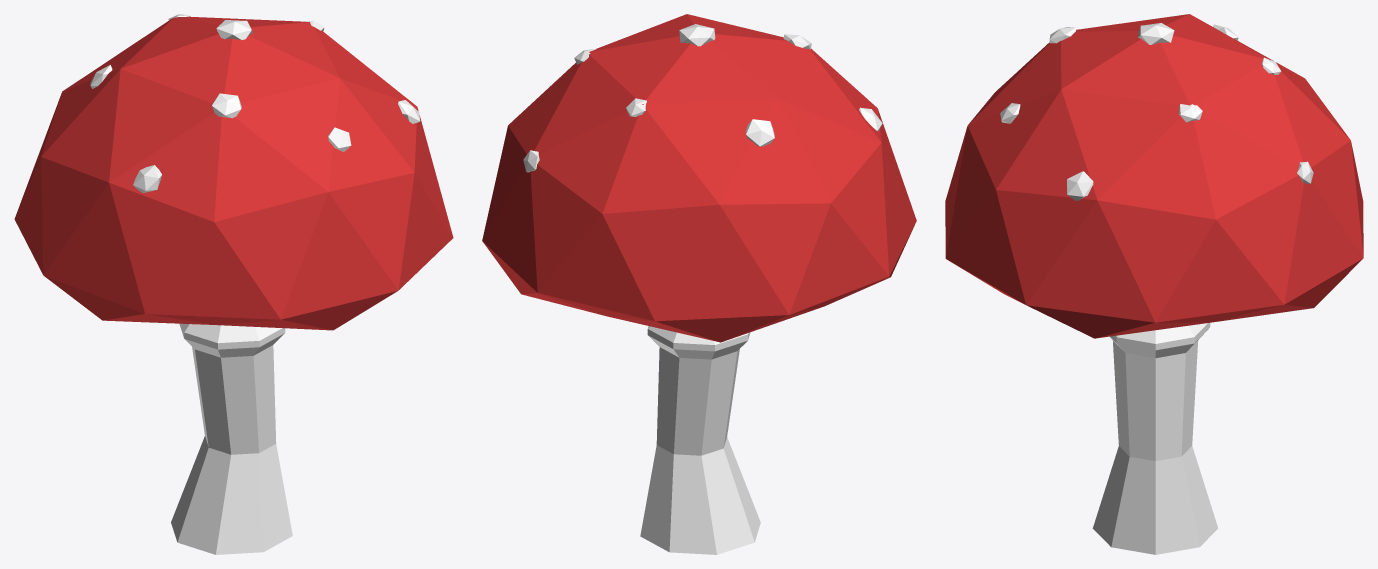
Rendered from Mushroom_10.fbx.
3 renders of one model, left to right at view 1: azimuth 30°, elevation 25°; view 2: azimuth 150°, elevation 25°; view 3: azimuth 270°, elevation 25°, orthographic.
Visible parts, largest first — view 1: Mushroom_10; view 2: Mushroom_10; view 3: Mushroom_10.
Part boxes in pixels (box(x1,y1,x2,y2)): Mushroom_10: box(14, 14, 453, 554); Mushroom_10: box(482, 14, 916, 554); Mushroom_10: box(945, 14, 1363, 554).
Bounding box in the file's own units: 17.81 × 22.56 × 16.96.
